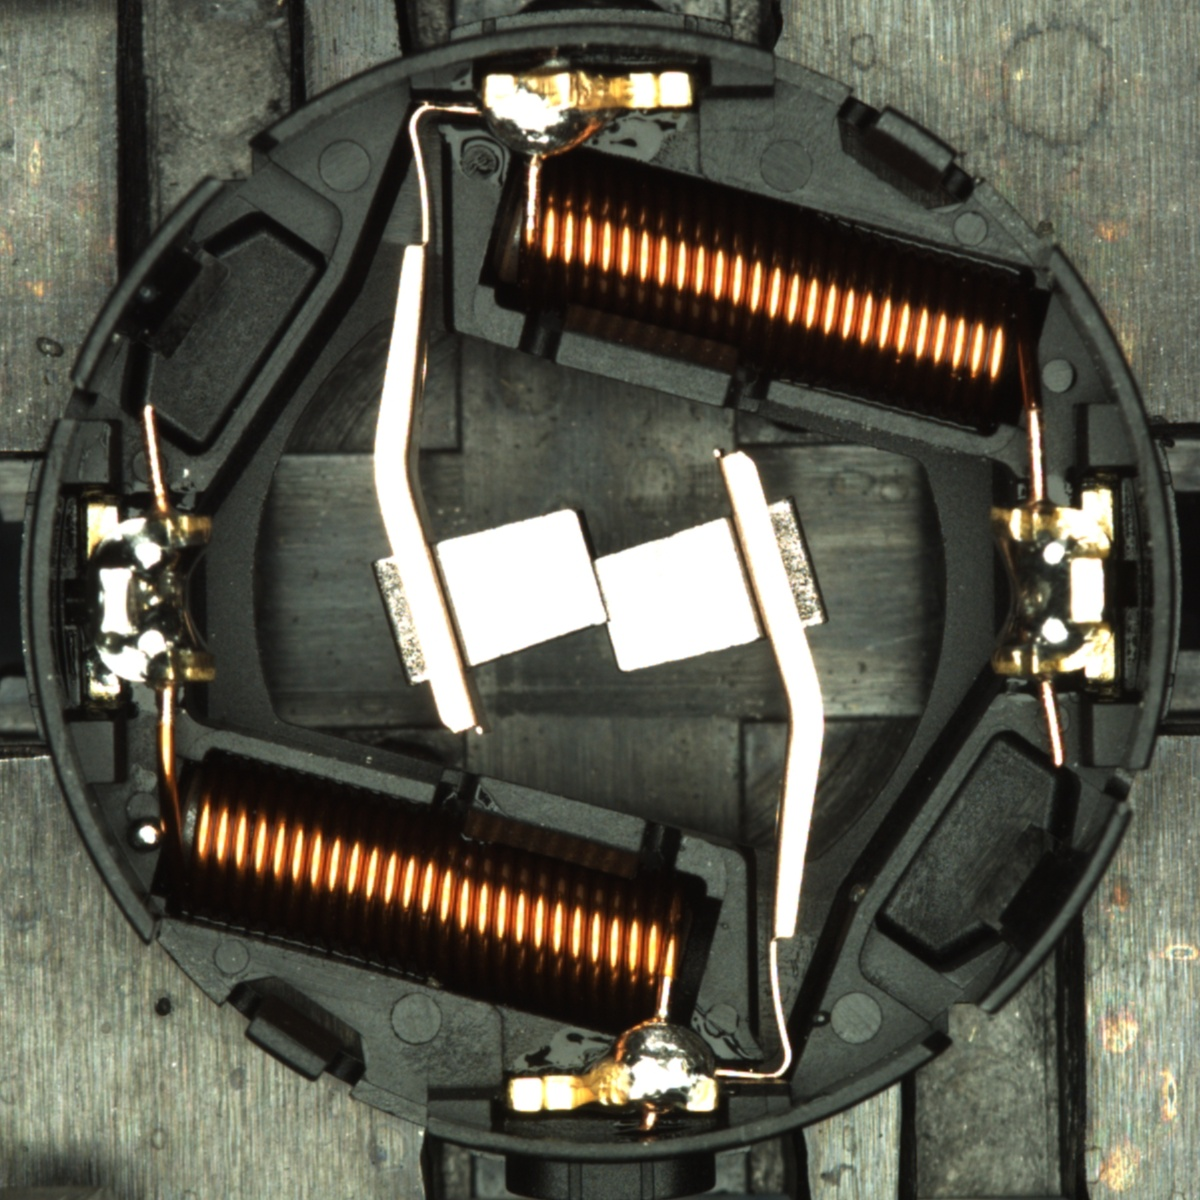1: (253, 30, 481, 254), (711, 927, 940, 1152)
2: (711, 30, 940, 254), (253, 927, 481, 1152)
3: (940, 702, 1169, 927), (23, 254, 253, 478)
4: (711, 702, 940, 927), (253, 254, 481, 478)
5: (481, 814, 711, 1040), (481, 142, 711, 366)
6: (253, 702, 481, 927), (711, 254, 940, 478)
7: (23, 702, 253, 927), (940, 254, 1169, 478)
bui_chi: (132, 818, 165, 852)
cacbon: (392, 497, 800, 685)
chau_dien: (81, 497, 221, 701), (982, 487, 1122, 687)
hat_chi: (130, 818, 166, 852)
tay_choi: (480, 68, 697, 167), (508, 1015, 721, 1115)
thanh_de: (953, 787, 1140, 1031), (58, 163, 245, 404)
